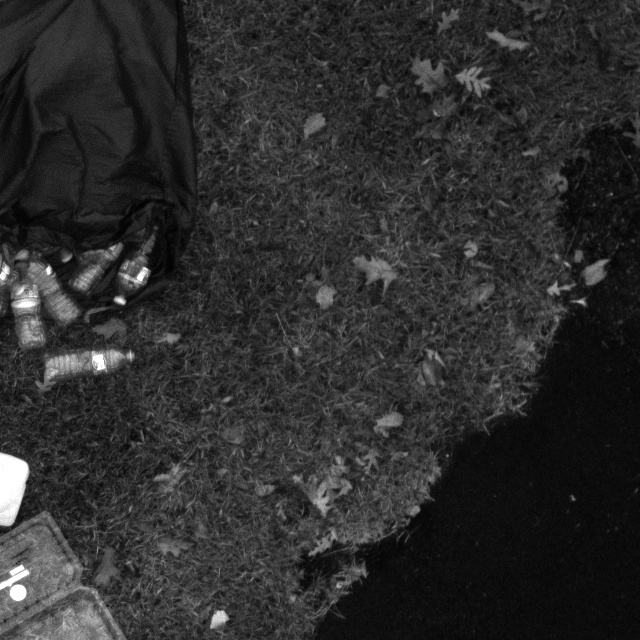bottle: (18, 254, 91, 330), (111, 227, 162, 311), (48, 349, 141, 379)
container: (0, 504, 138, 640)
